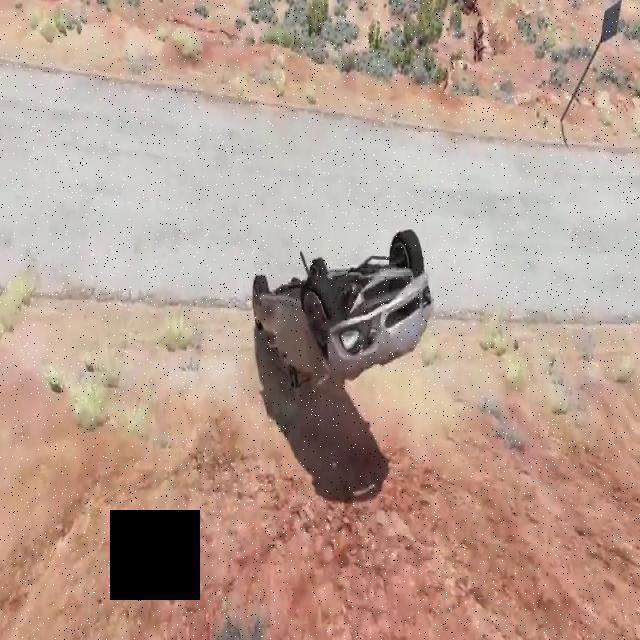severe: (249, 218, 436, 390)
